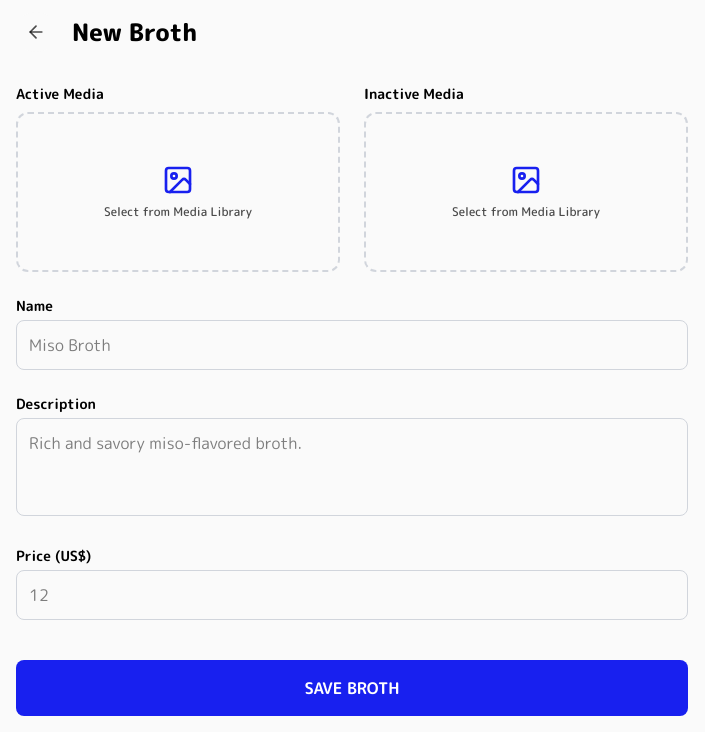
NewBrothPage › should display validation errors when submitting an empty form
Click the button "SAVE BROTH" at {"x": 352, "y": 688}, box [16,660,688,716]
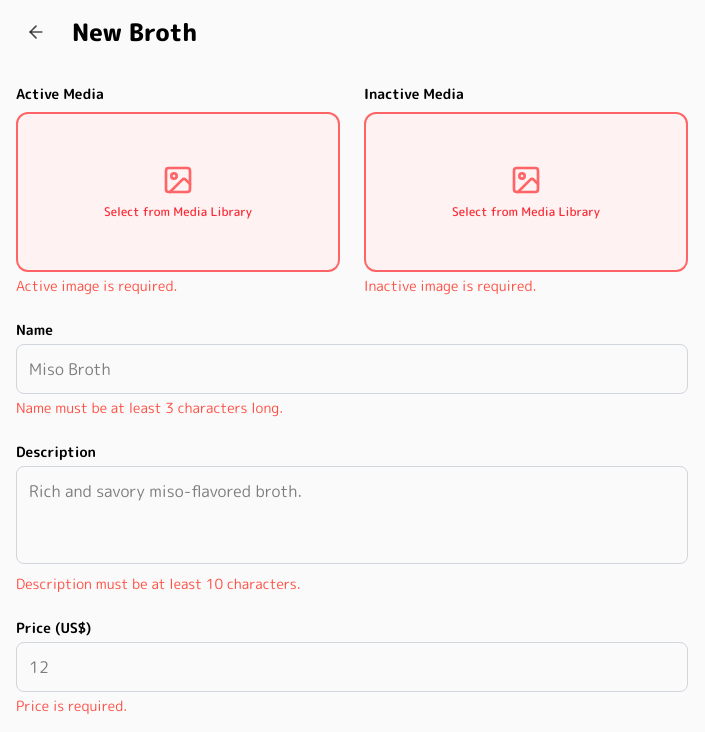
expect the text "Active image is required." is shown: met, box [16,276,178,295]
expect the text "Inactive image is required." is shown: met, box [364,276,536,295]
expect the text "Name must be at least 3 characters long." is shown: met, box [16,398,283,417]
